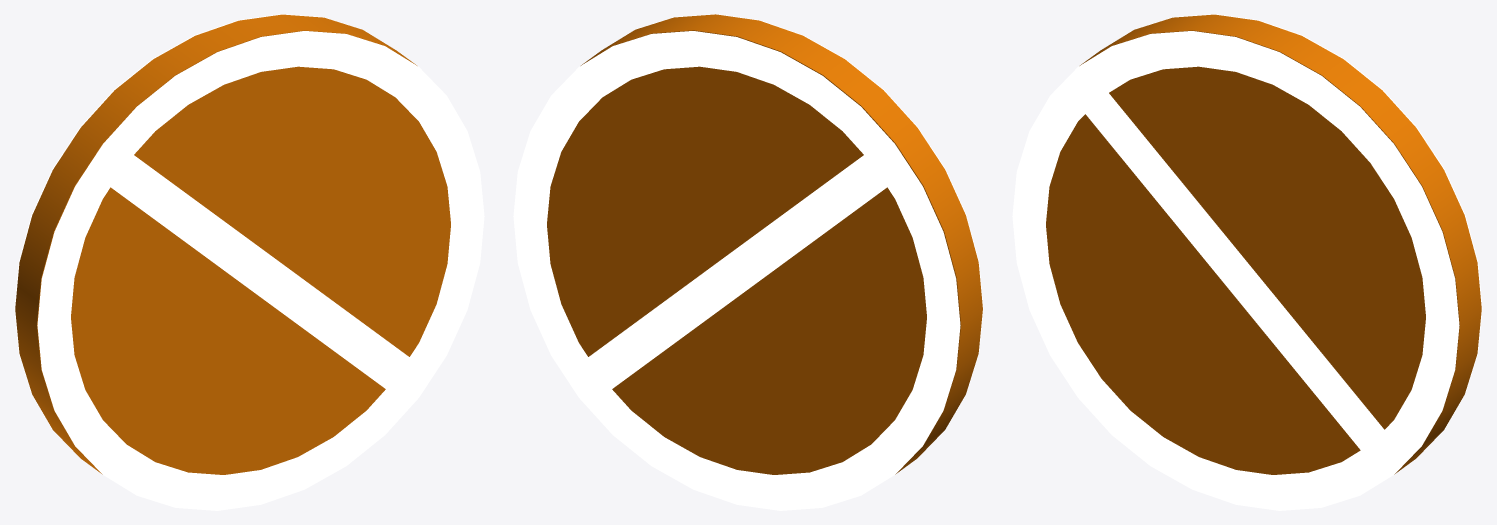
3 views of the same model, side by side, from view 1: azimuth 30°, elevation 25°; view 2: azimuth 150°, elevation 25°; view 3: azimuth 330°, elevation 25° (orthographic).
Visible parts, largest first — view 1: 柱体, 柱体.001, 平面, 柱体.003; view 2: 柱体, 柱体.003, 平面.001, 柱体.001; view 3: 柱体, 柱体.001, 平面, 柱体.003.
Part boxes in pixels (x1,y1,x2,y2): 柱体: (15,14,450,474); 柱体.001: (37,31,484,510); 平面: (101,148,420,396); 柱体.003: (14,14,362,457); 柱体: (547,14,982,474); 柱体.003: (513,31,960,510); 平面.001: (588,155,886,388); 柱体.001: (635,14,983,457); 柱体: (1046,14,1481,474); 柱体.001: (1012,31,1459,510); 平面: (1076,82,1394,463); 柱体.003: (1134,14,1482,457).
Size of the model in its own units: 12.58 by 12.58 by 1.13.
